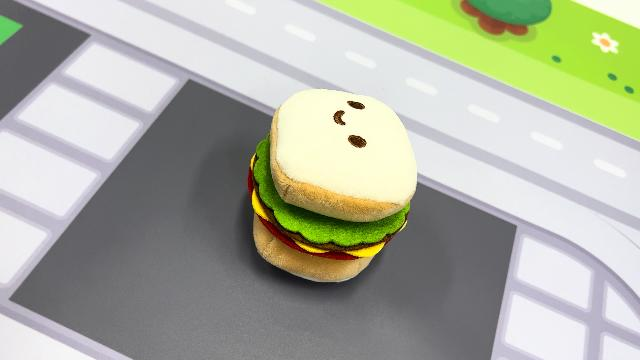sandwich: (245, 85, 420, 284)
